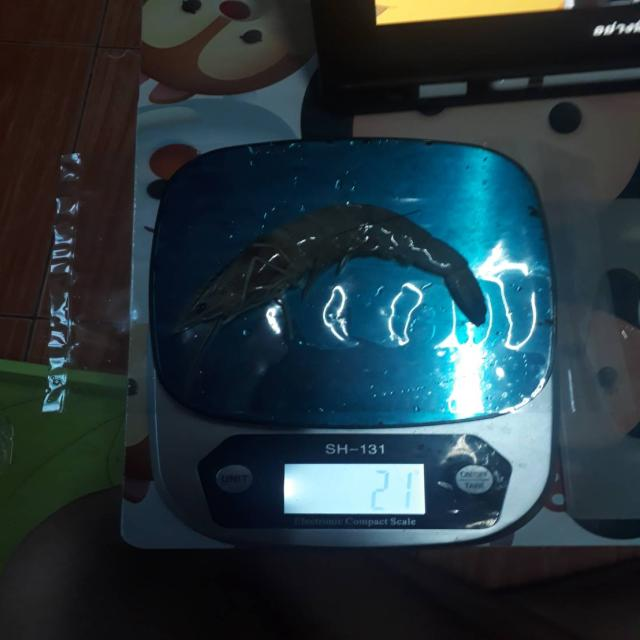1: (400, 469, 414, 510)
2: (370, 469, 389, 512)
screen: (284, 463, 426, 514)
